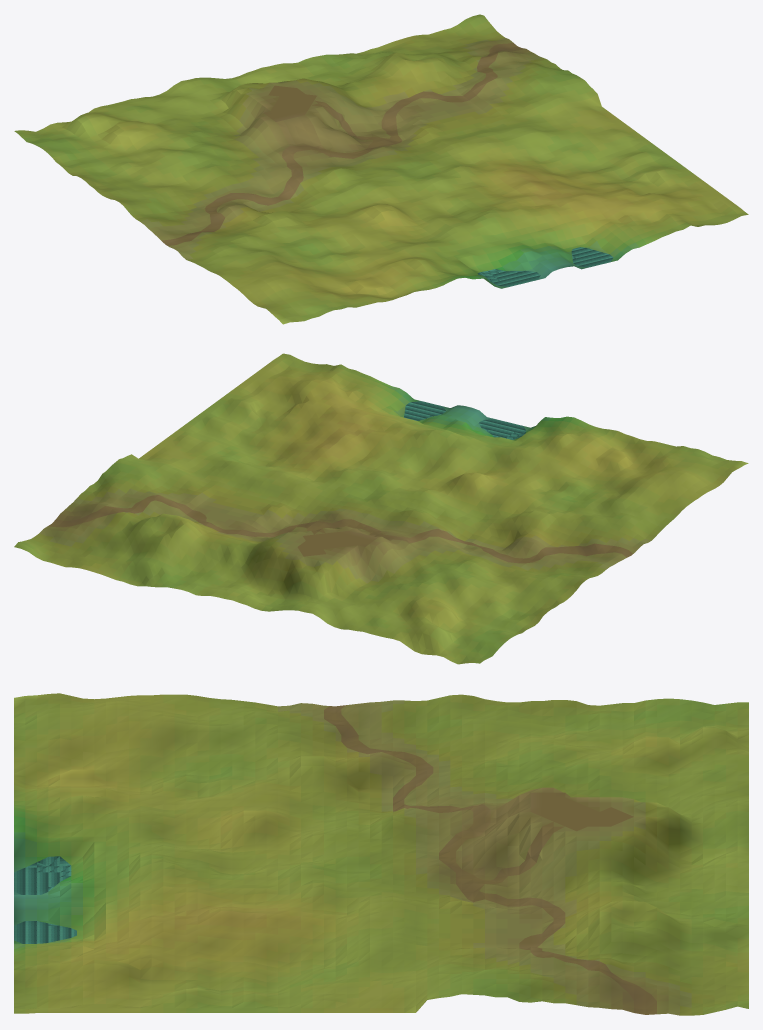
3 renders of one model, top to bottom at view 1: azimuth 30°, elevation 25°; view 2: azimuth 150°, elevation 25°; view 3: azimuth 270°, elevation 25°, orthographic. The views are drawn at different scales.
Parts seen in each view (by area): view 1: model; view 2: model; view 3: model.
Boxes of the visible parts, left/top/right/bottom form: model: left=14, top=14, right=748, bottom=324; model: left=14, top=353, right=748, bottom=664; model: left=14, top=693, right=748, bottom=1015.
Size of the model in its own units: 64 by 4.88 by 64.
2 materials, 1 textured.
